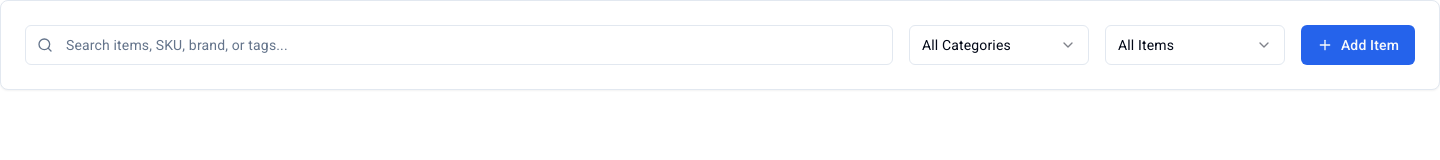
it: LendingFilters › displays availability filter options
Click the dropdown labelled "All Items".
click(1195, 45)  # box [1105,25,1285,65]
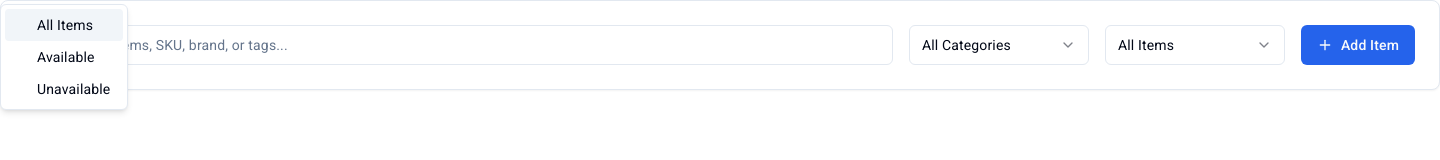
Now the option "All Items" is shown, box [5,9,123,41]
Now the option "Available" is shown, box [37,49,95,65]
Now the option "Unavailable" is shown, box [37,81,110,97]
